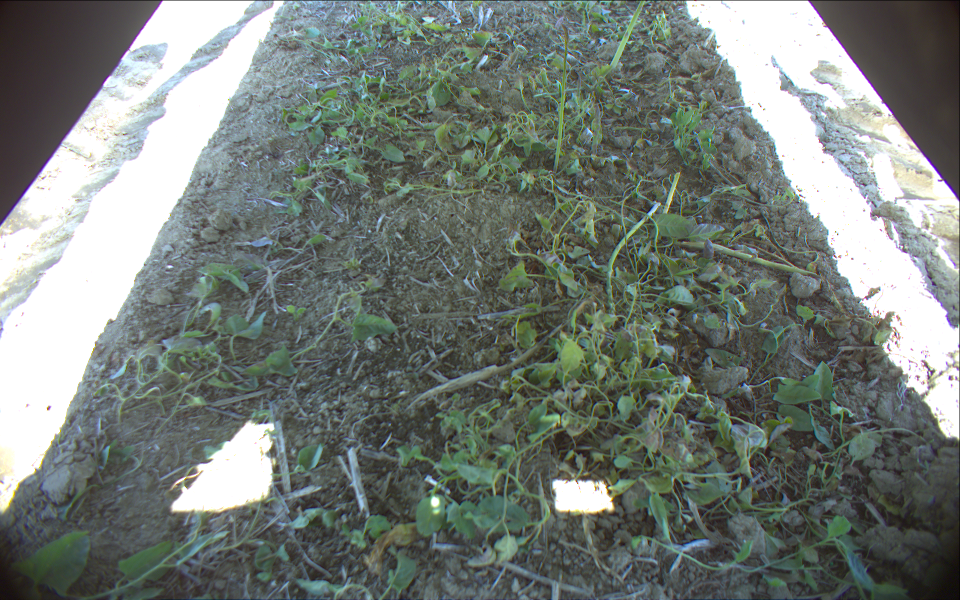aspa: (604, 1, 648, 73), (553, 22, 571, 177)
